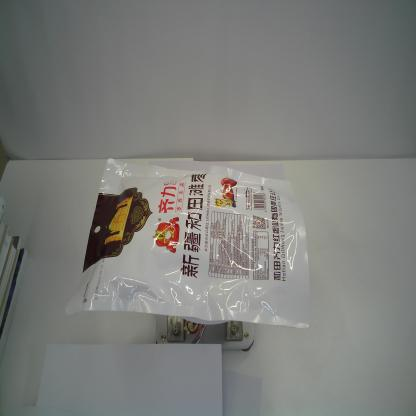Dried Food: (64, 158, 310, 331)
